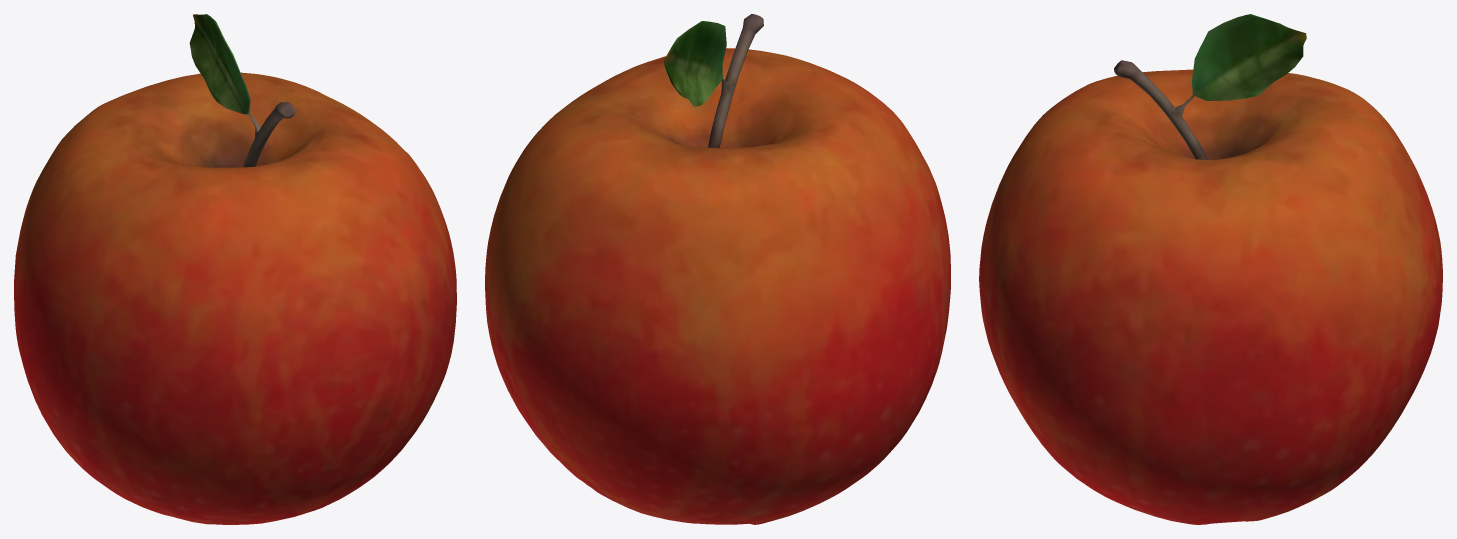
File: apple.glb
3 renders of one model, left to right at view 1: azimuth 30°, elevation 25°; view 2: azimuth 150°, elevation 25°; view 3: azimuth 270°, elevation 25°, orthographic. The views are drawn at different scales.
Visible parts, largest first — view 1: sm_food_produce_apple_d01_mesh_00.001; view 2: sm_food_produce_apple_d01_mesh_00.001; view 3: sm_food_produce_apple_d01_mesh_00.001.
Part boxes in pixels (x1,y1,x2,y2): sm_food_produce_apple_d01_mesh_00.001: (14,14,456,524); sm_food_produce_apple_d01_mesh_00.001: (485,14,950,524); sm_food_produce_apple_d01_mesh_00.001: (979,14,1442,524).
Bounding box in the file's own units: 0.0596 × 0.0694 × 0.0613.
1 material, 1 textured.
